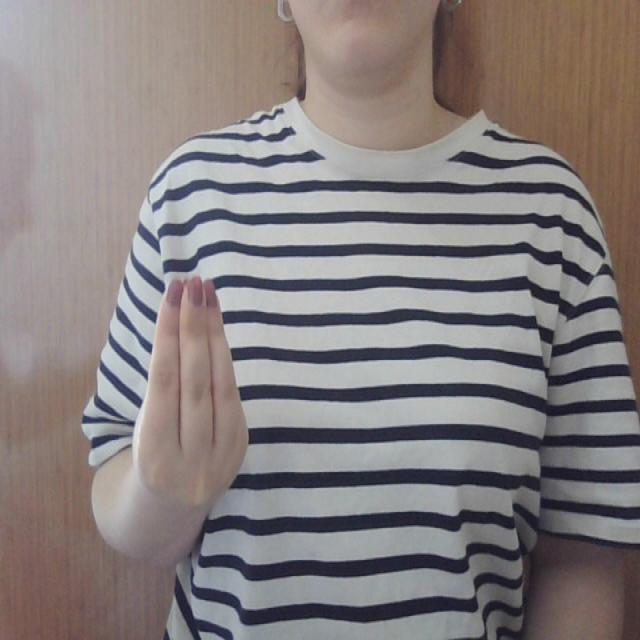iyi: (121, 268, 262, 513)
